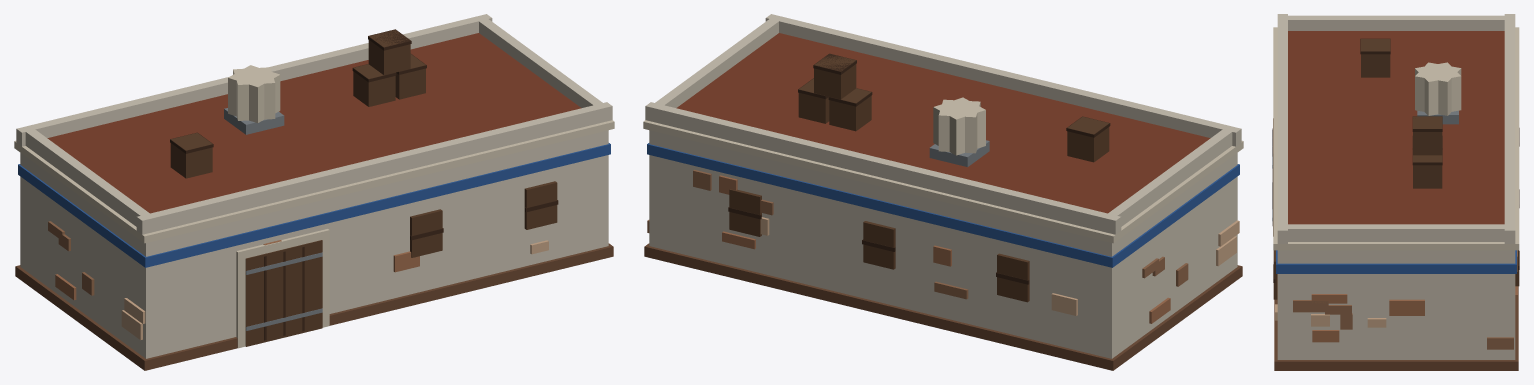
The model's file is dd_solid_half.glb.
3 views of the same model, side by side, from view 1: azimuth 30°, elevation 25°; view 2: azimuth 150°, elevation 25°; view 3: azimuth 270°, elevation 25° (orthographic). The views are drawn at different scales.
Parts seen in each view (by area): view 1: DUBG_dd_solid_half; view 2: DUBG_dd_solid_half; view 3: DUBG_dd_solid_half.
Boxes of the visible parts, <box> form: DUBG_dd_solid_half: <box>14,14,614,370</box>; DUBG_dd_solid_half: <box>643,14,1243,370</box>; DUBG_dd_solid_half: <box>1272,14,1519,370</box>.
Bounding box in the file's own units: 24.6 × 9.67 × 11.86.
